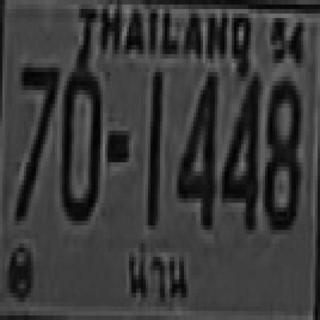N00: (60, 63, 100, 221)
N01: (146, 70, 160, 223)
N04: (176, 70, 216, 223), (220, 72, 258, 225)
N07: (17, 63, 57, 216)
N08: (263, 77, 298, 225)
P33: (125, 235, 194, 310)
